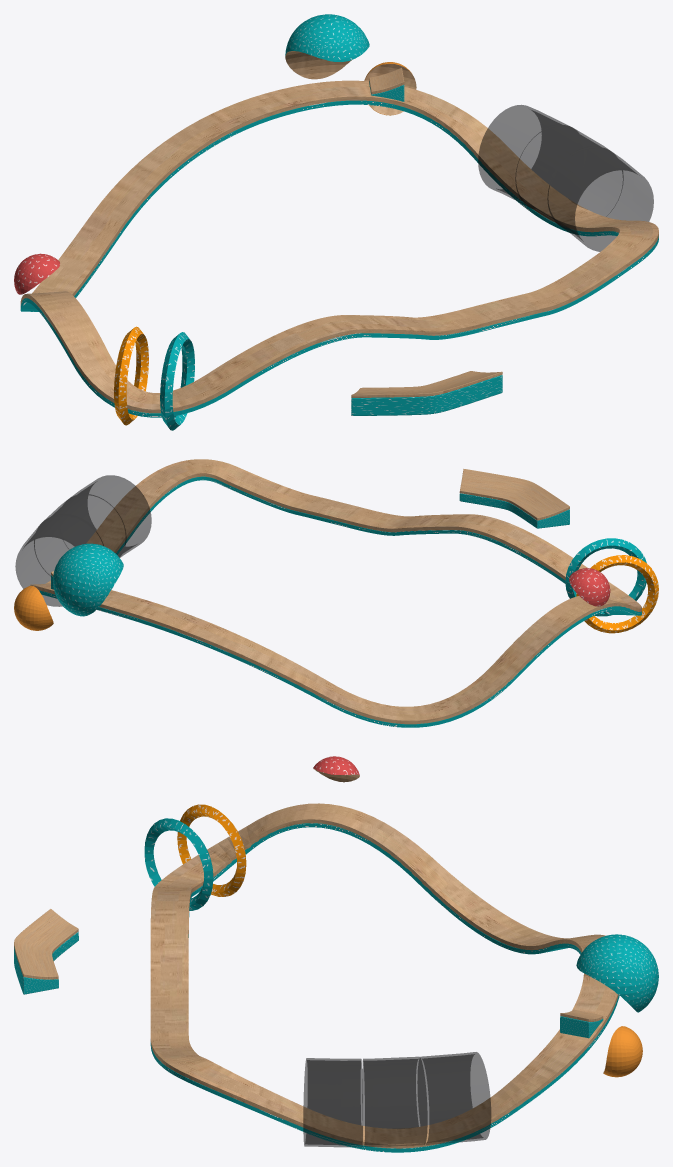
File: SkateRamp.FBX
3 renders of one model, top to bottom at view 1: azimuth 30°, elevation 25°; view 2: azimuth 150°, elevation 25°; view 3: azimuth 270°, elevation 25°, orthographic. The views are drawn at different scales.
Visible parts, largest first — view 1: SkateRamp; view 2: SkateRamp; view 3: SkateRamp.
Part boxes in pixels (left/top/right/bottom): SkateRamp: left=14, top=14, right=658, bottom=430; SkateRamp: left=14, top=459, right=658, bottom=727; SkateRamp: left=14, top=756, right=658, bottom=1152.
Size of the model in its own units: 1659 by 409 by 1524.
